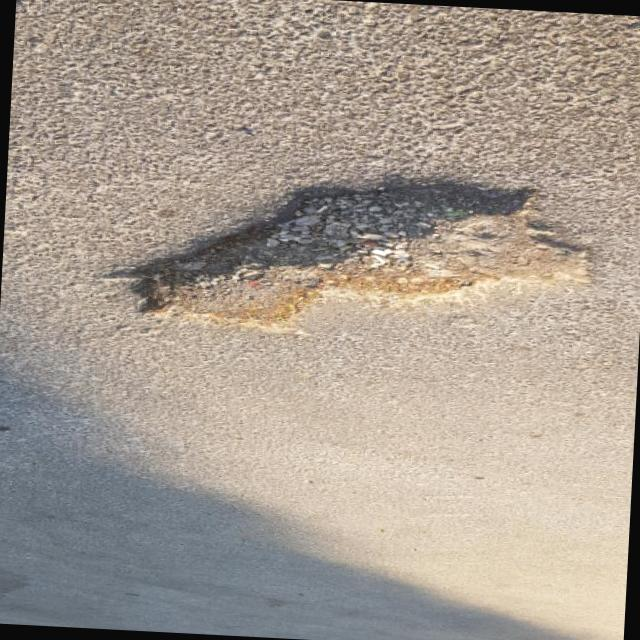pothole: (109, 160, 607, 351)
